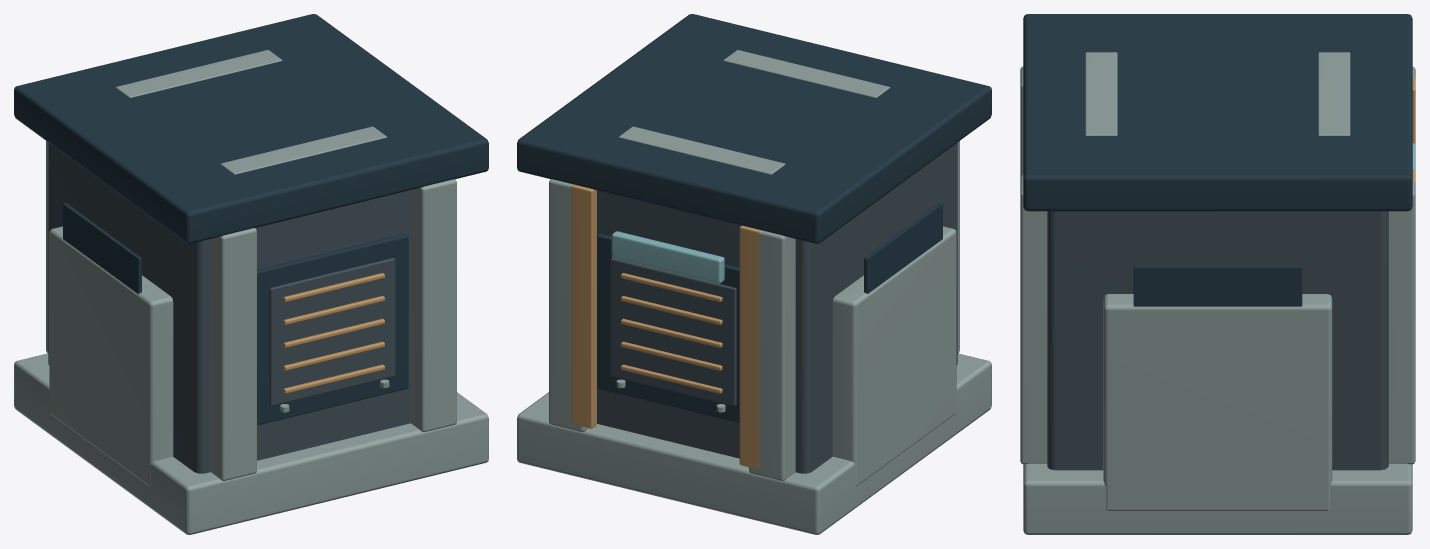
Rendered from receiver-0.glb.
The picture shows the model from 3 angles, left to right: view 1: azimuth 30°, elevation 25°; view 2: azimuth 150°, elevation 25°; view 3: azimuth 270°, elevation 25°; orthographic projection. The views are drawn at different scales.
Visible parts, largest first — view 1: receiver_1, receiver_2, receiver_0, receiver_3; view 2: receiver_2, receiver_1, receiver_0, receiver_3, receiver_4; view 3: receiver_1, receiver_2, receiver_0.
Part boxes in pixels (<box>): receiver_1: <box>14,50,488,534</box>; receiver_2: <box>14,14,488,425</box>; receiver_0: <box>48,142,410,473</box>; receiver_3: <box>283,273,384,393</box>; receiver_2: <box>517,14,991,422</box>; receiver_1: <box>517,50,991,534</box>; receiver_0: <box>597,142,957,473</box>; receiver_3: <box>571,184,761,468</box>; receiver_4: <box>611,231,724,283</box>; receiver_1: <box>1020,52,1415,534</box>; receiver_2: <box>1023,14,1412,306</box>; receiver_0: <box>1047,211,1388,470</box>.
Bounding box in the file's own units: 0.975 × 0.993 × 0.9855.
